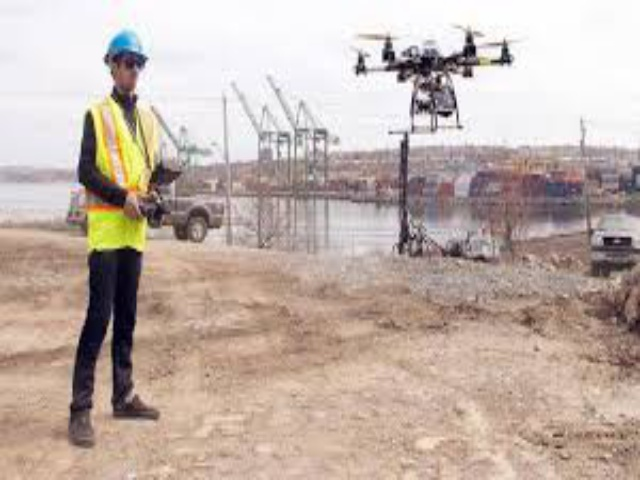drone: (344, 18, 523, 136)
